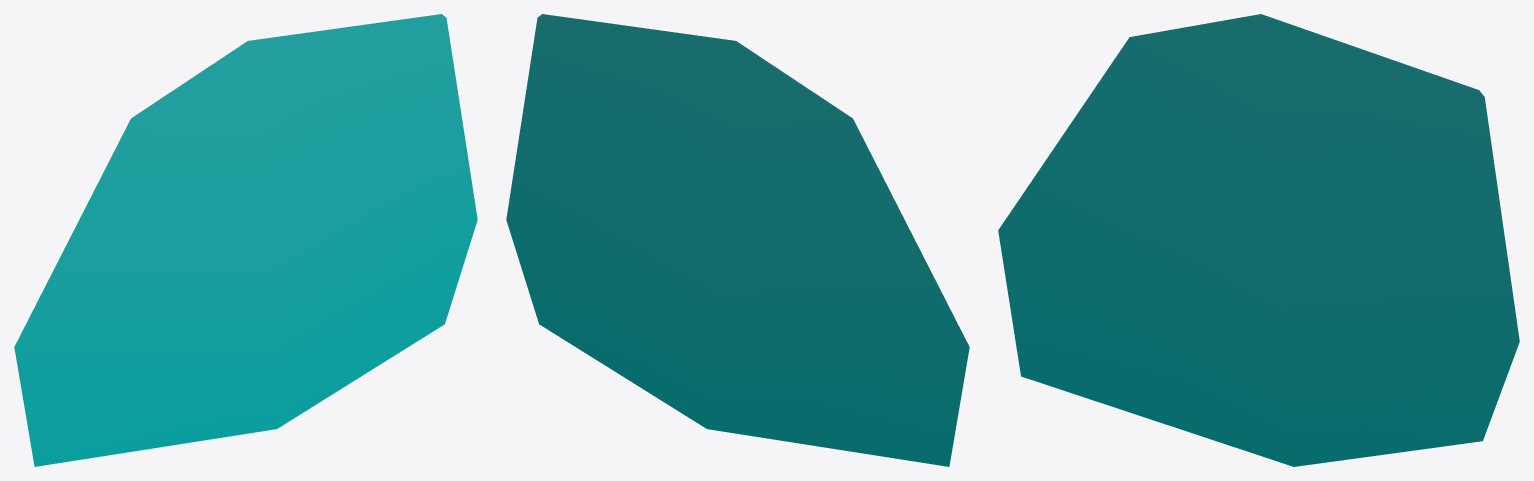
Rendered from Elderberry_wfzobb2ia_Mid_wfzobb2ia_VarG_LOD3.fbx.
The picture shows the model from 3 angles, left to right: view 1: azimuth 30°, elevation 25°; view 2: azimuth 150°, elevation 25°; view 3: azimuth 330°, elevation 25°; orthographic projection. The views are drawn at different scales.
Visible parts, largest first — view 1: _p3yy_VarG_LOD6; view 2: _p3yy_VarG_LOD6; view 3: _p3yy_VarG_LOD6.
Part boxes in pixels (x1,y1,x2,y2): _p3yy_VarG_LOD6: [14, 14, 477, 466]; _p3yy_VarG_LOD6: [506, 14, 969, 466]; _p3yy_VarG_LOD6: [998, 14, 1519, 466].
Size of the model in its own units: 63.58 by 51.82 by 0.
